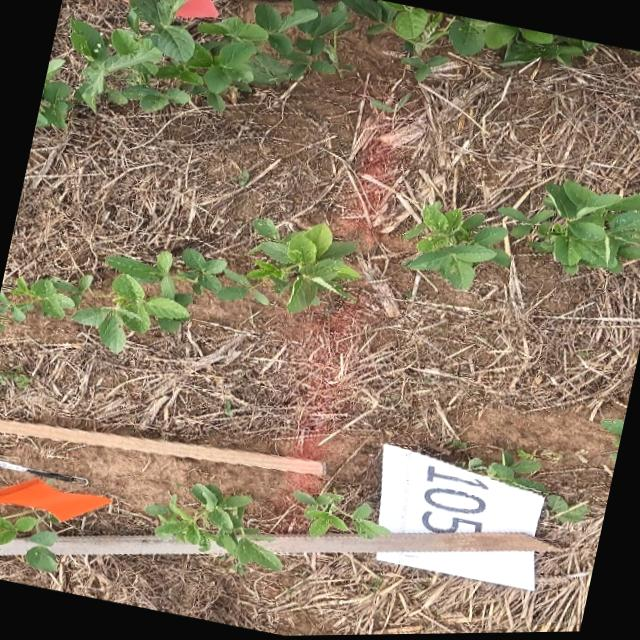caruru_weed: (0, 367, 29, 388)
soy_plant: (70, 0, 595, 111), (0, 219, 358, 352), (499, 182, 640, 274), (144, 483, 280, 569), (403, 203, 508, 290), (462, 451, 588, 523), (292, 491, 388, 540), (0, 514, 56, 571), (35, 67, 70, 126), (370, 95, 409, 114), (600, 420, 623, 448)
